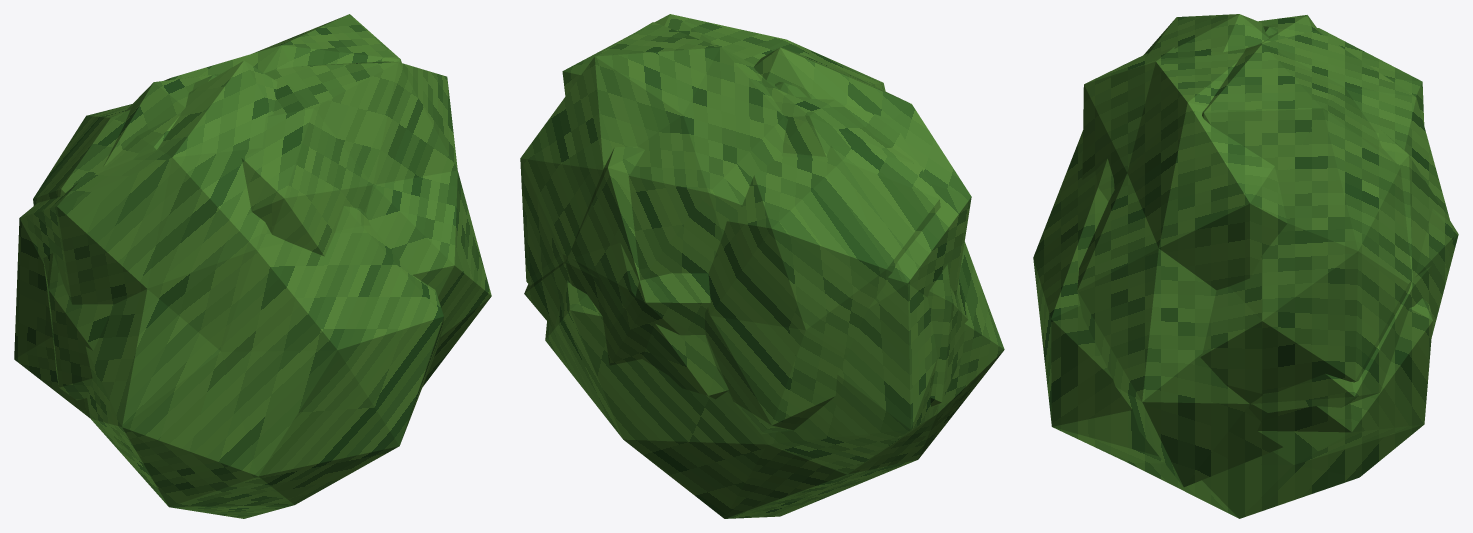
File: bush_round.glb
3 renders of one model, left to right at view 1: azimuth 30°, elevation 25°; view 2: azimuth 150°, elevation 25°; view 3: azimuth 270°, elevation 25°, orthographic. The views are drawn at different scales.
Parts seen in each view (by area): view 1: leaves; view 2: leaves; view 3: leaves.
Part boxes in pixels (x1,y1,x2,y2): leaves: [14, 14, 491, 518]; leaves: [520, 14, 1004, 518]; leaves: [1033, 14, 1458, 518].
Size of the model in its own units: 0.9403 by 1.04 by 0.7958.
Materials: 1 (1 with a texture image).
